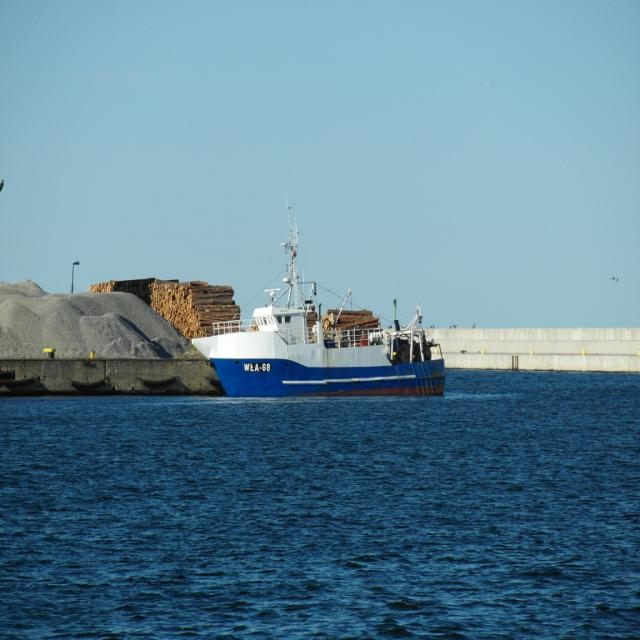Boat: (188, 191, 446, 398)
